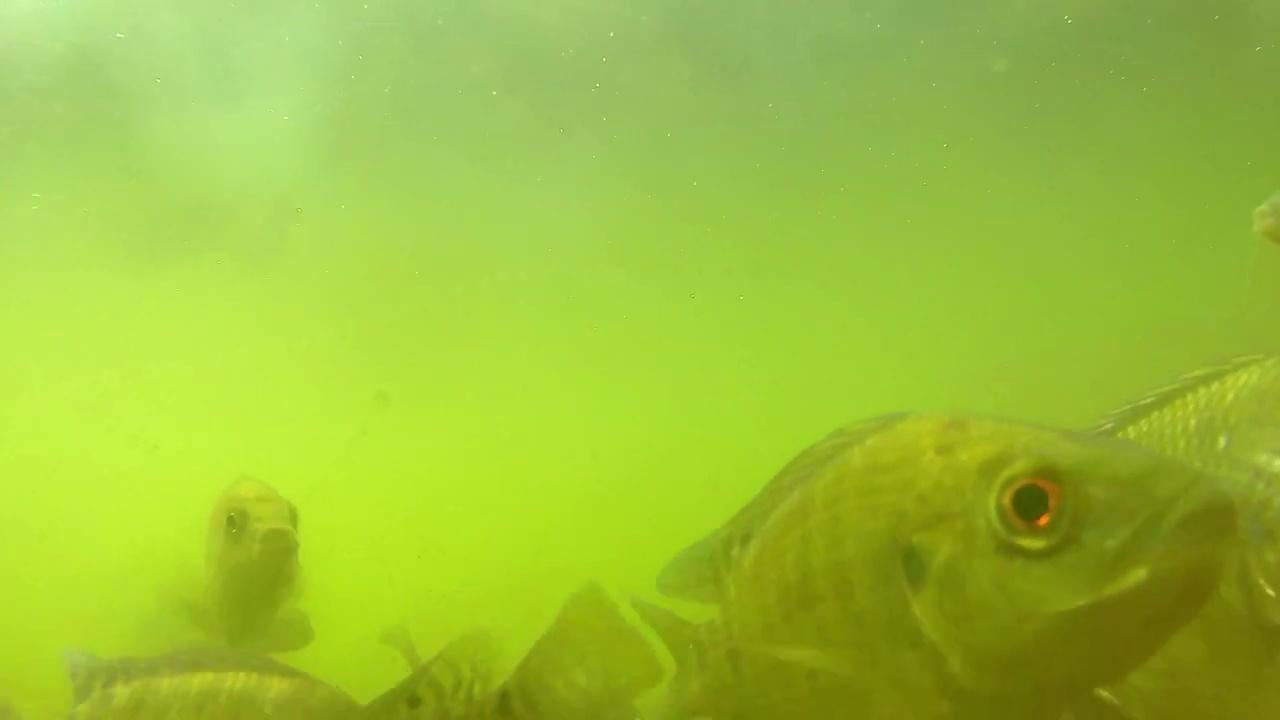Tilapia: (677, 410, 1240, 720), (185, 472, 314, 670)
